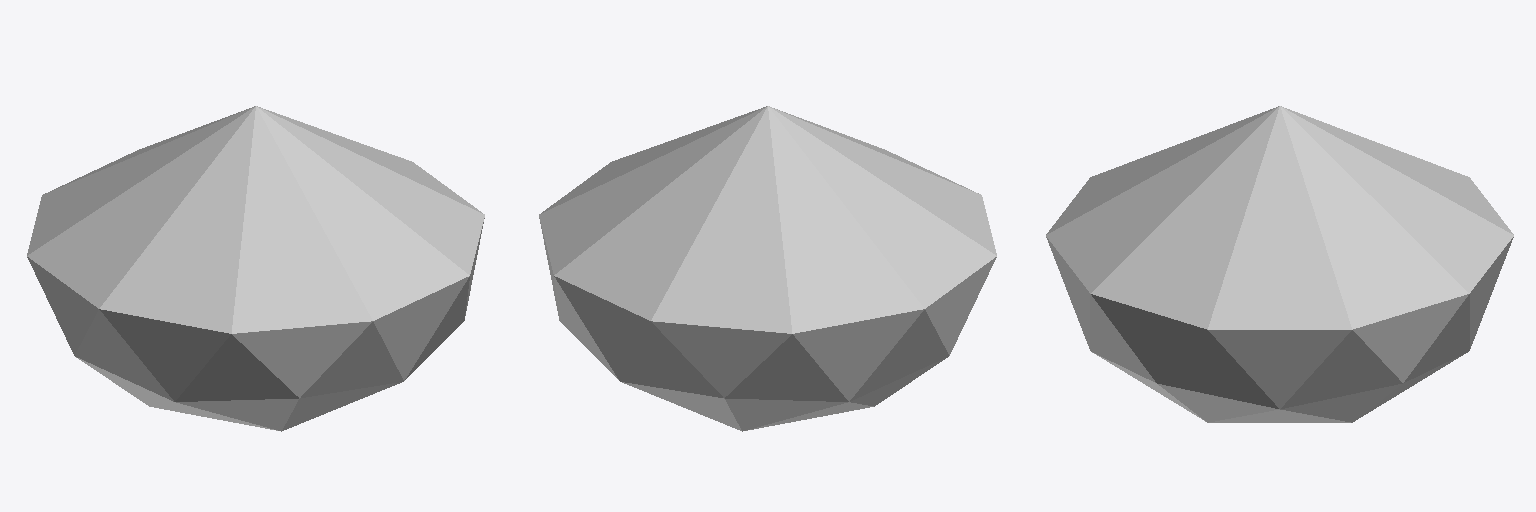
The model's file is lightcone.obj.
3 views of the same model, side by side, from view 1: azimuth 30°, elevation 25°; view 2: azimuth 150°, elevation 25°; view 3: azimuth 270°, elevation 25° (orthographic).
Parts seen in each view (by area): view 1: Icosphere; view 2: Icosphere; view 3: Icosphere.
Part boxes in pixels (x1,y1,x2,y2): Icosphere: (27,106,484,431); Icosphere: (539,106,996,431); Icosphere: (1046,106,1513,422).
Bounding box in the file's own units: 1.9 × 1.41 × 2.